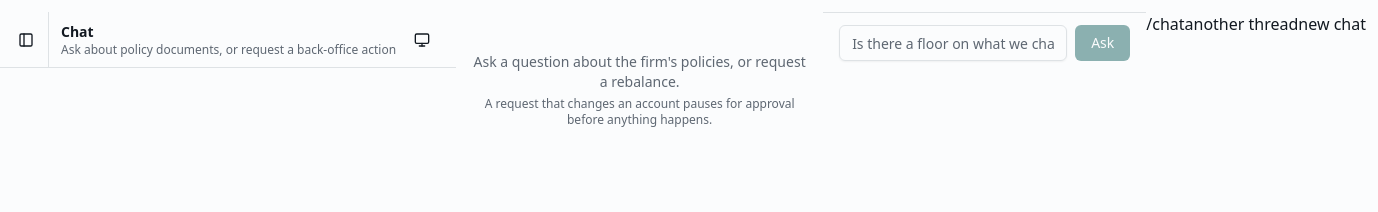
ChatPage › marks a turn that is asking, not refusing
Type "rebalance the account, it has drifted" into the field named "Message". click: (953, 43)
box: [839,25,1067,61]
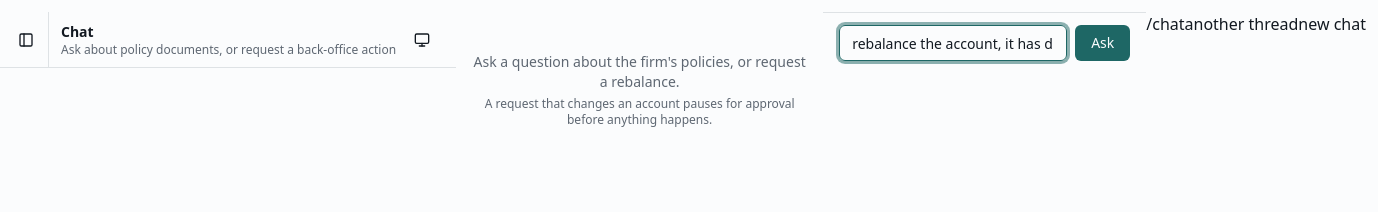
Click the button "Ask". click: (1103, 43)
box: [1075,25,1130,61]
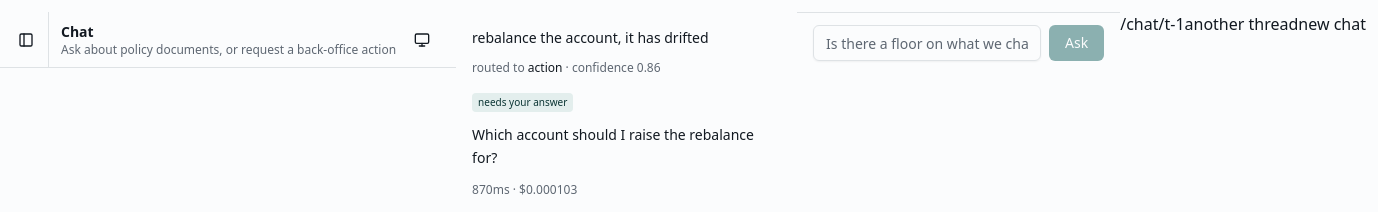
Expected: the text "needs your answer" is shown, [472,93,573,112]
Expected: the text with test id "outcome" reads "needs your answer", [478,95,567,109]
